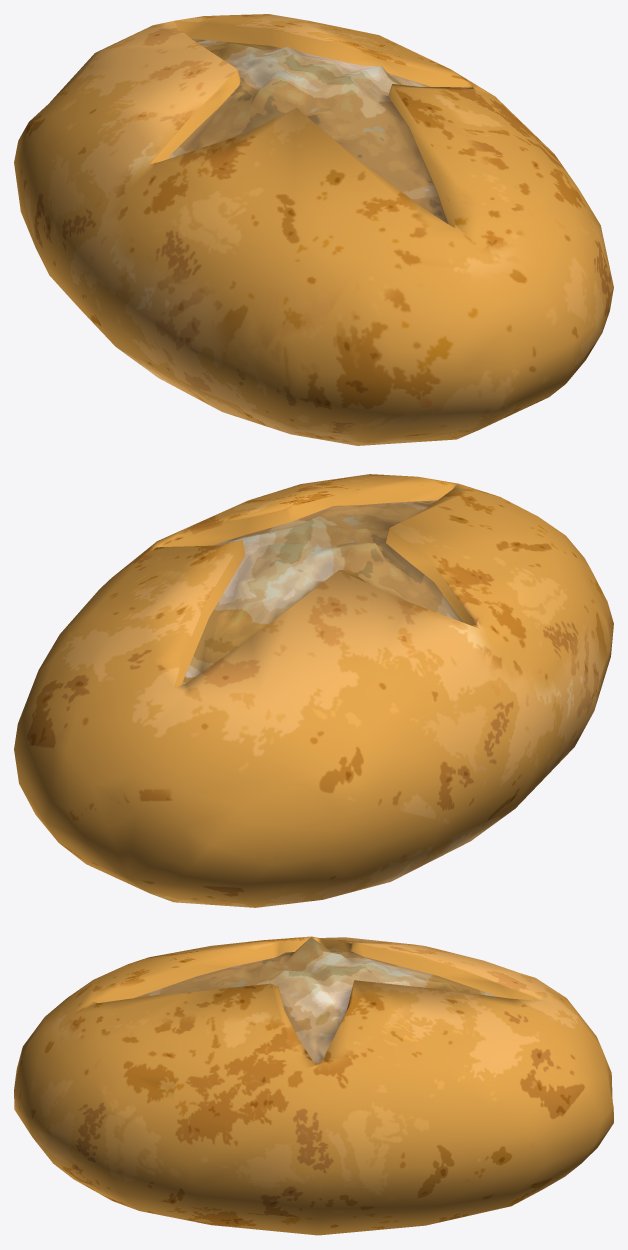
The model's file is s_baked_potato_01.fbx.
3 views of the same model, one above another, from view 1: azimuth 30°, elevation 25°; view 2: azimuth 150°, elevation 25°; view 3: azimuth 270°, elevation 25° (orthographic). The views are drawn at different scales.
Parts seen in each view (by area): view 1: s baked potato 01; view 2: s baked potato 01; view 3: s baked potato 01.
Part boxes in pixels (x1,y1,x2,y2): s baked potato 01: (14,14,613,445); s baked potato 01: (14,474,613,907); s baked potato 01: (14,936,613,1235).
Bounding box in the file's own units: 26.87 × 17.7 × 39.36.
